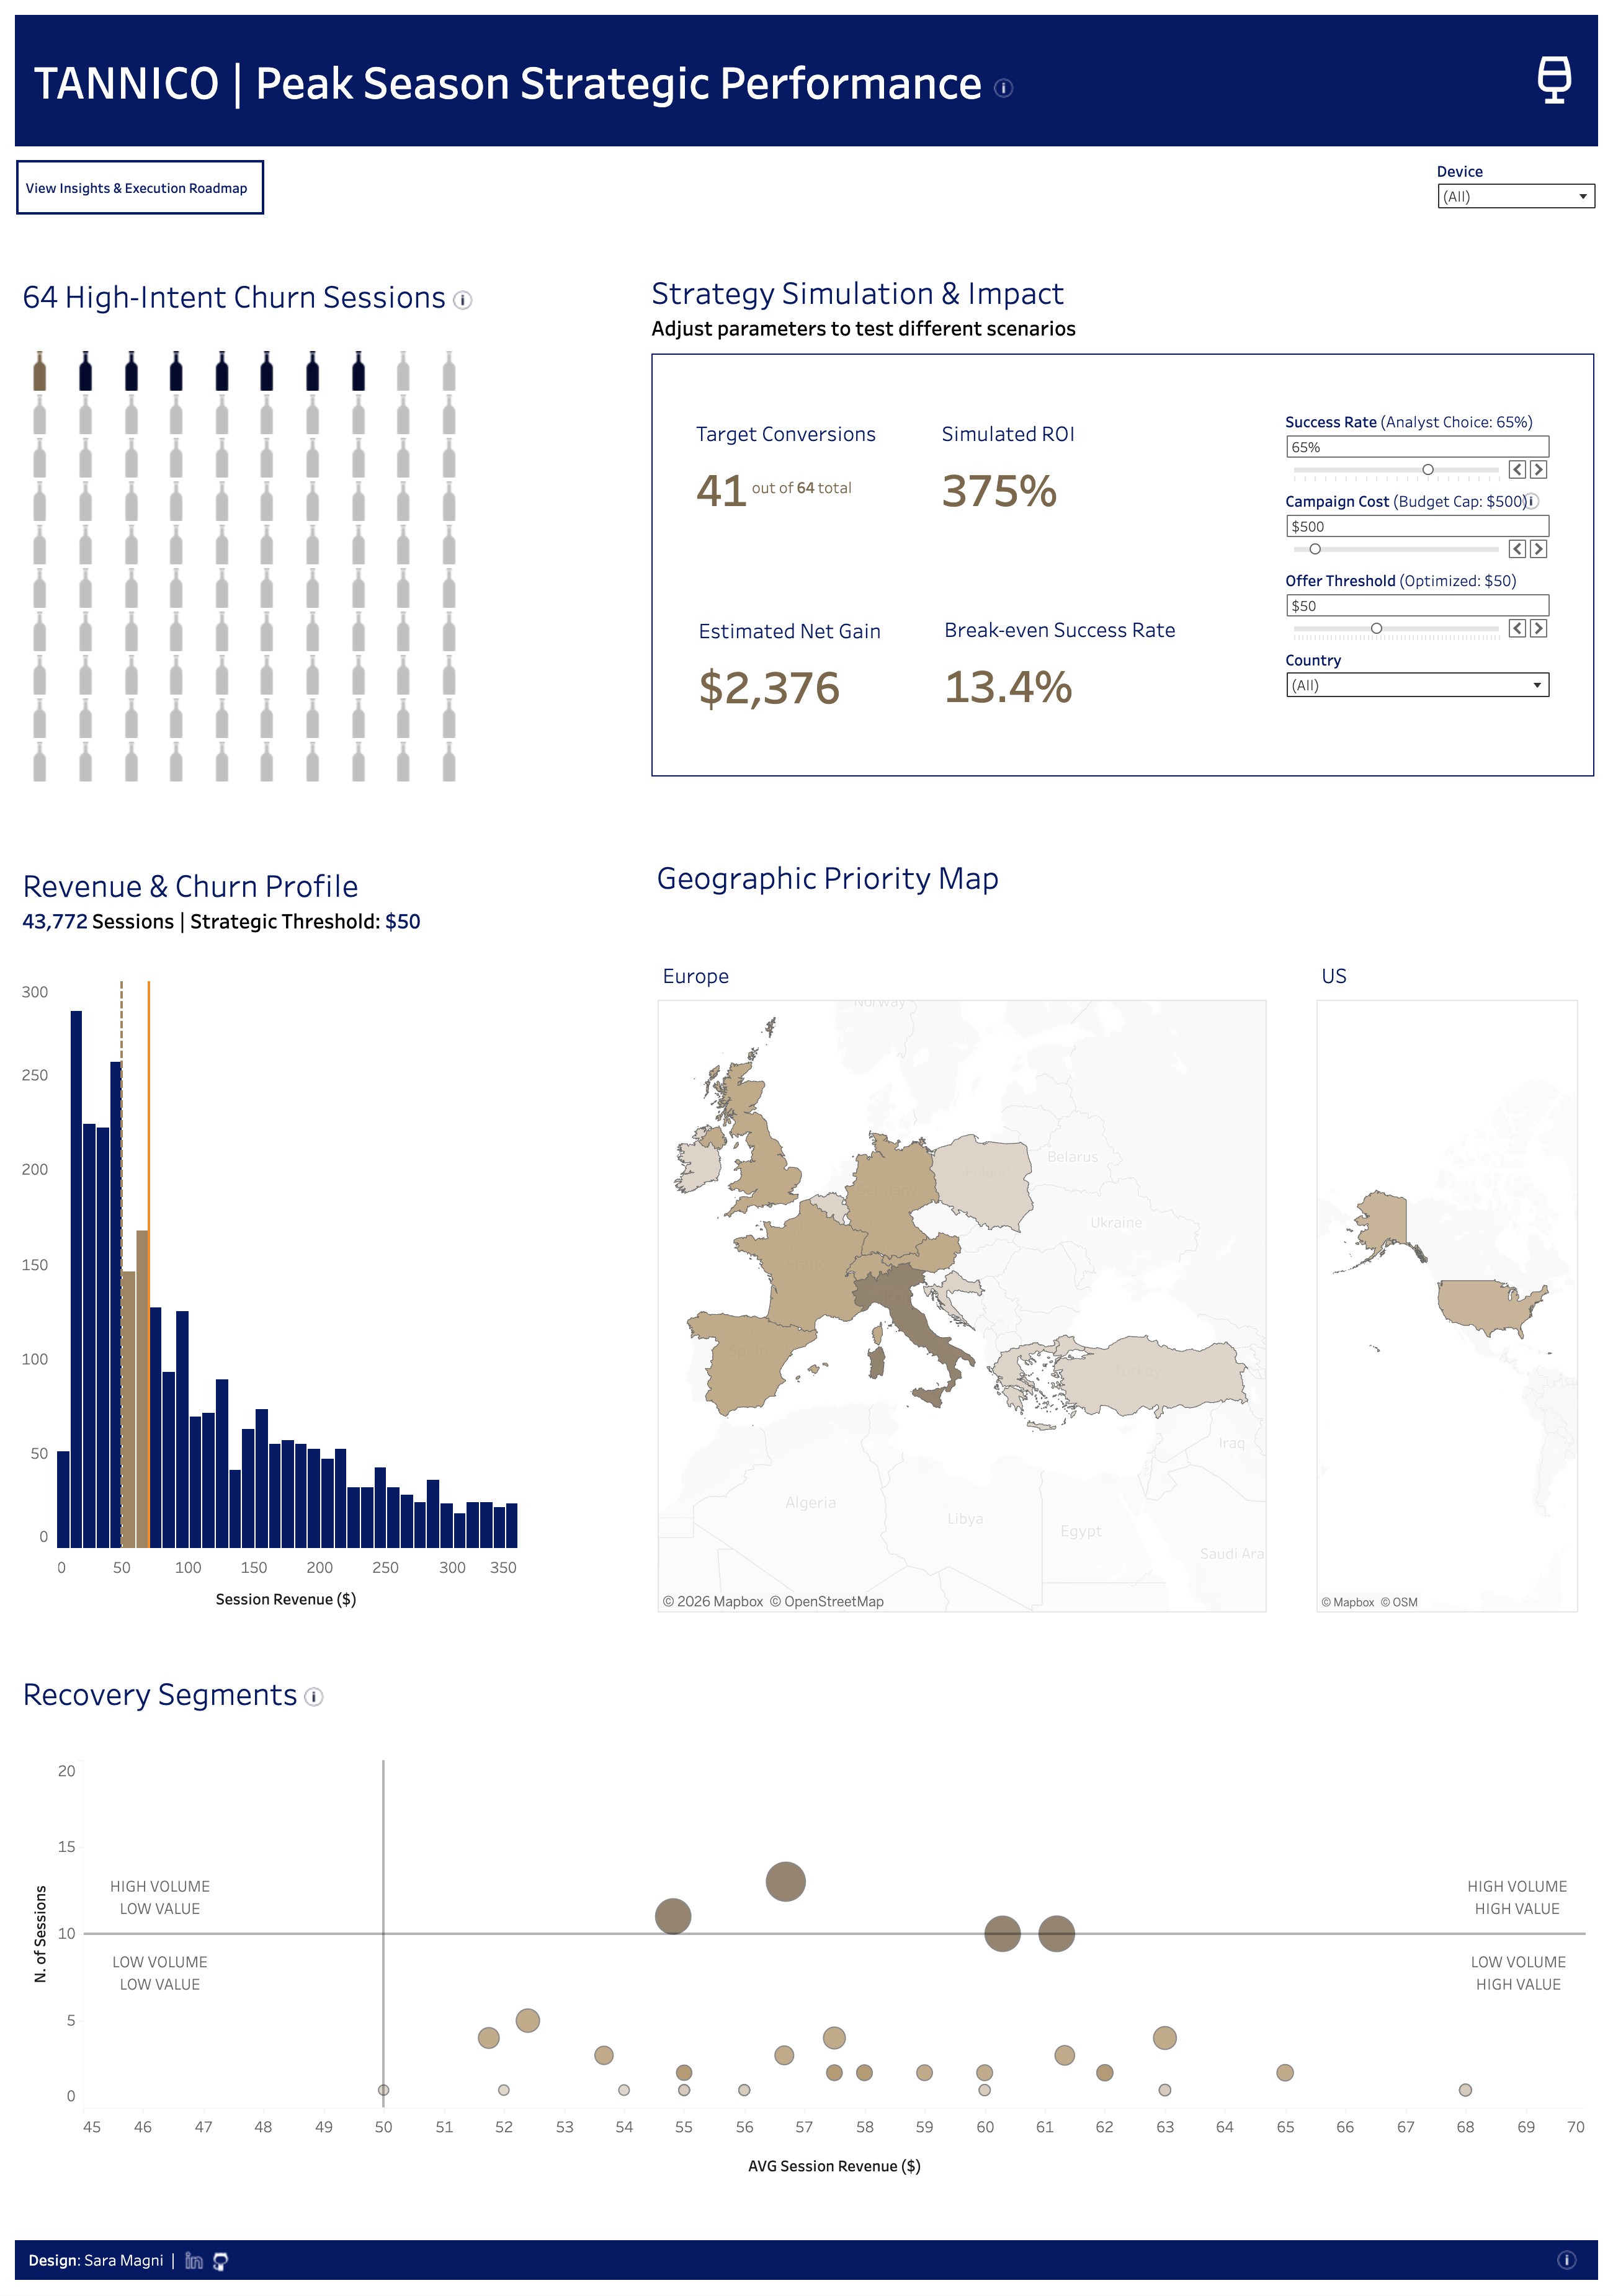

What the dashboard file says about the page in this screenshot:
{"tool":"tableau","page":{"name":"Dashboard_p1","canvas":[1300,1850],"ordinal":0},"visuals":[{"type":"text","box":[8,8,1284,114]},{"type":"image","param":"Image/tanico_fake_logo.png","box":[1233,12,40,105]},{"type":"worksheet","title":"Info_Title","mark":"Shape","box":[794,49,47,49]},{"type":"text","box":[8,122,1284,74]},{"type":"worksheet","title":"Button","mark":"Automatic","box":[13,129,200,44]},{"type":"filter","title":"Chart 4_Segmentation Matrix (Scatter Plot)","param":"[federated.1uxu02i021ofuc1f22coj035b2mc].[none:Device Category (tannico_recovera","box":[1158,129,129,44]},{"type":"worksheet","title":"Chart 3_Waffle Chart","mark":"Shape","rows":["F2"],"cols":["F1"],"box":[8,196,460,454]},{"type":"blank","box":[468,196,42,472]},{"type":"text","box":[506,196,423,101]},{"type":"blank","box":[510,196,229.6,127]},{"type":"blank","box":[739.6,196,235.4,117.8]},{"type":"blank","box":[975,196,32,472]},{"type":"blank","box":[1026,215,203,149]},{"type":"worksheet","title":"Info_Waffle","mark":"Shape","box":[362,222,40,34]},{"type":"blank","box":[525,285,760,341]},{"type":"worksheet","title":"KPI_Recovered Sessions","mark":"Automatic","box":[533,301,208,143]},{"type":"worksheet","title":"KPI 3_Simulated ROI","mark":"Automatic","box":[740,301,235,143]},{"type":"parameter","param":"[Parameters].[Parametro 1]","box":[1036,331,214,57]},{"type":"text","box":[606,373,99,40]},{"type":"worksheet","title":"Info_Campaign Cost","mark":"Shape","box":[1215,383,41,45]},{"type":"parameter","param":"[Parameters].[Parametro 3]","box":[1036,395,214,57]},{"type":"worksheet","title":"KPI 4_Break-even Success Rate","mark":"Automatic","box":[742,459,235,143]},{"type":"parameter","param":"[Parameters].[Parametro 2]","box":[1036,459,214,57]},{"type":"worksheet","title":"KPI 2_Estimated Net Gain","mark":"Automatic","box":[535,460,205,143]},{"type":"filter","title":"KPI_Recovered Sessions","param":"[federated.1uxu02i021ofuc1f22coj035b2mc].[none:User Country (tannico_recoverable","box":[1036,523,214,57]},{"type":"worksheet","title":"Chart 1_ Anomaly Histogram","mark":"Bar","rows":["Calculation_5896079897993216"],"cols":["Session Revenue (contenitore)","Calculation_5896079938236419"],"box":[8,668,425,652]},{"type":"blank","box":[433,668,77,652]},{"type":"text","box":[510,668,782,80]},{"type":"worksheet","title":"Chart 2_Europe","mark":"Multipolygon","box":[510,748,531,572]},{"type":"worksheet","title":"Chart 2_USA","mark":"Multipolygon","box":[1041,748,251,572]},{"type":"text","box":[174,1278,147,22]},{"type":"worksheet","title":"Chart 4_Segmentation Matrix (Scatter Plot)","mark":"Circle","rows":["Session Id (tannico_recoverable.csv)"],"cols":["Session Revenue (tannico_recoverable.csv)"],"box":[8,1320,1284,450]},{"type":"worksheet","title":"Info_Matrix","mark":"Shape","box":[240,1345,50,50]},{"type":"text","box":[26,1495,21,129]},{"type":"text","box":[75,1500,108,59]},{"type":"text","box":[1169,1500,108,59]},{"type":"text","box":[75,1561,108,59]},{"type":"text","box":[1170,1561,108,59]},{"type":"text","box":[601,1725,180,30]},{"type":"blank","box":[8,1770,1284,32]},{"type":"worksheet","title":"Info_Footer","mark":"Shape","box":[1243,1801,44,45]},{"type":"text","box":[23,1806,123,32]},{"type":"worksheet","title":"Icon_LinkedIn","mark":"Shape","box":[137,1812,40,37]},{"type":"worksheet","title":"Icon_GitHub","mark":"Shape","box":[164,1813,29,40]}]}

Visuals, with their boxes in screenshot pixels (x1, y1, x2, y2), scaled from the page's 1300x1850 canvas onto the 1613x2296 screenshot:
text: <box>10,10,1603,151</box>
image: <box>1530,15,1579,145</box>
"Info_Title" worksheet (Shape marks): <box>985,61,1043,122</box>
text: <box>10,151,1603,243</box>
"Button" worksheet: <box>16,160,264,215</box>
"Chart 4_Segmentation Matrix (Scatter Plot)" filter: <box>1437,160,1597,215</box>
"Chart 3_Waffle Chart" worksheet (Shape marks): <box>10,243,581,807</box>
blank: <box>581,243,633,829</box>
text: <box>628,243,1153,368</box>
blank: <box>633,243,918,401</box>
blank: <box>918,243,1210,389</box>
blank: <box>1210,243,1249,829</box>
blank: <box>1273,267,1525,452</box>
"Info_Waffle" worksheet (Shape marks): <box>449,275,499,318</box>
blank: <box>651,354,1594,777</box>
"KPI_Recovered Sessions" worksheet: <box>661,373,919,551</box>
"KPI 3_Simulated ROI" worksheet: <box>918,373,1210,551</box>
parameter: <box>1285,411,1551,481</box>
text: <box>752,463,875,512</box>
"Info_Campaign Cost" worksheet (Shape marks): <box>1508,475,1558,531</box>
parameter: <box>1285,490,1551,561</box>
"KPI 4_Break-even Success Rate" worksheet: <box>921,569,1212,747</box>
parameter: <box>1285,569,1551,641</box>
"KPI 2_Estimated Net Gain" worksheet: <box>664,571,918,749</box>
"KPI_Recovered Sessions" filter: <box>1285,649,1551,720</box>
"Chart 1_ Anomaly Histogram" worksheet (Bar marks): <box>10,829,537,1638</box>
blank: <box>537,829,633,1638</box>
text: <box>633,829,1603,928</box>
"Chart 2_Europe" worksheet (Multipolygon marks): <box>633,928,1292,1638</box>
"Chart 2_USA" worksheet (Multipolygon marks): <box>1292,928,1603,1638</box>
text: <box>216,1586,398,1613</box>
"Chart 4_Segmentation Matrix (Scatter Plot)" worksheet (Circle marks): <box>10,1638,1603,2197</box>
"Info_Matrix" worksheet (Shape marks): <box>298,1669,360,1732</box>
text: <box>32,1856,58,2016</box>
text: <box>93,1862,227,1935</box>
text: <box>1450,1862,1584,1935</box>
text: <box>93,1938,227,2011</box>
text: <box>1452,1938,1586,2011</box>
text: <box>746,2141,969,2178</box>
blank: <box>10,2197,1603,2236</box>
"Info_Footer" worksheet (Shape marks): <box>1542,2235,1597,2291</box>
text: <box>29,2241,181,2281</box>
"Icon_LinkedIn" worksheet (Shape marks): <box>170,2249,220,2295</box>
"Icon_GitHub" worksheet (Shape marks): <box>203,2250,239,2295</box>
